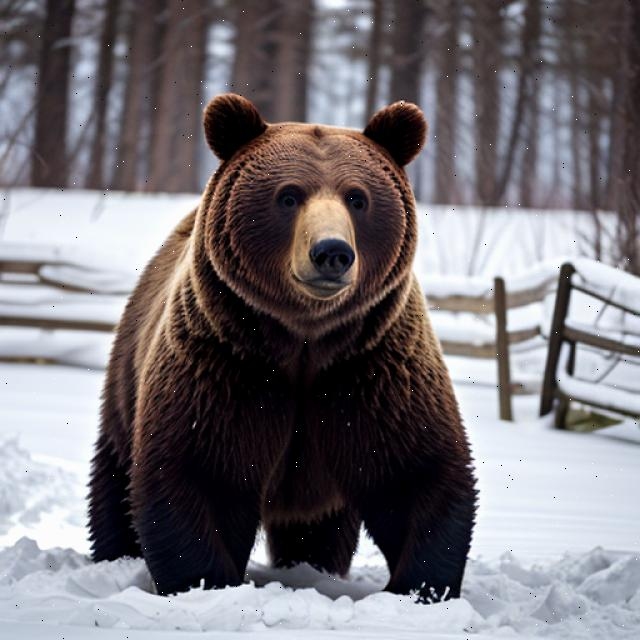bear: (119, 75, 446, 507)
